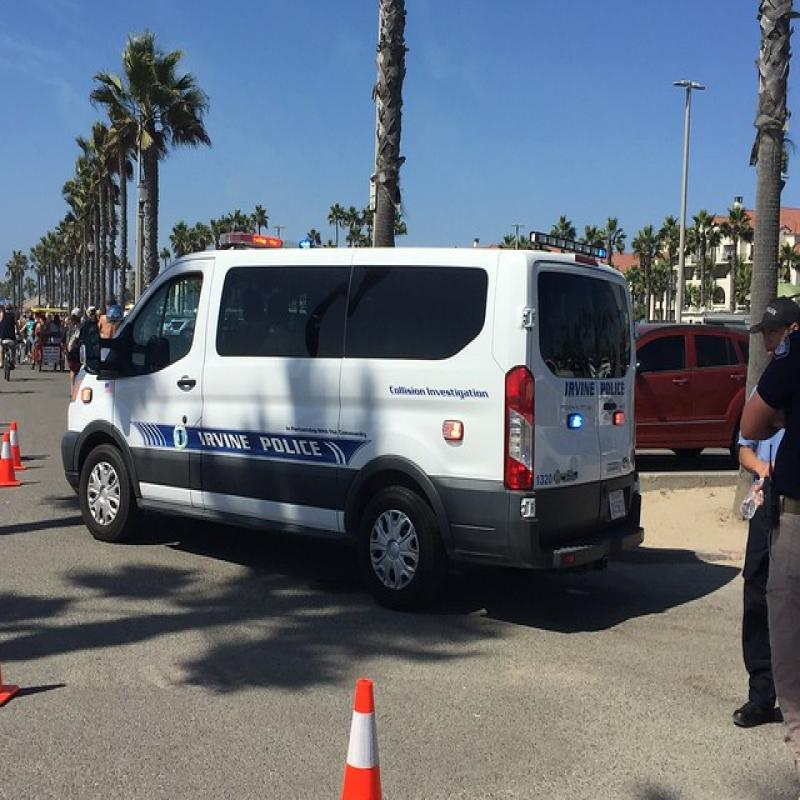AmbulanceSiren: (200, 214, 295, 256)
